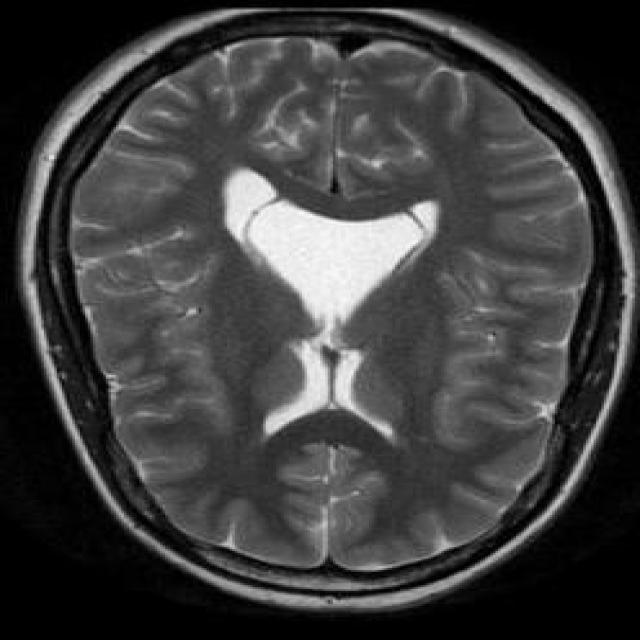brain tumor: (225, 167, 441, 326)
